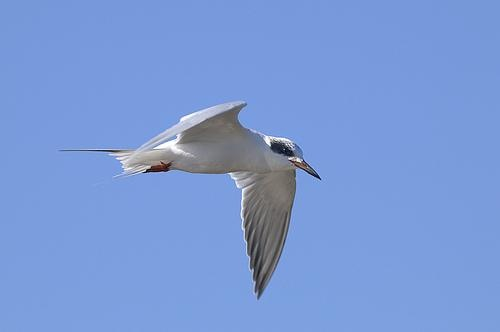bird: (51, 98, 323, 299)
